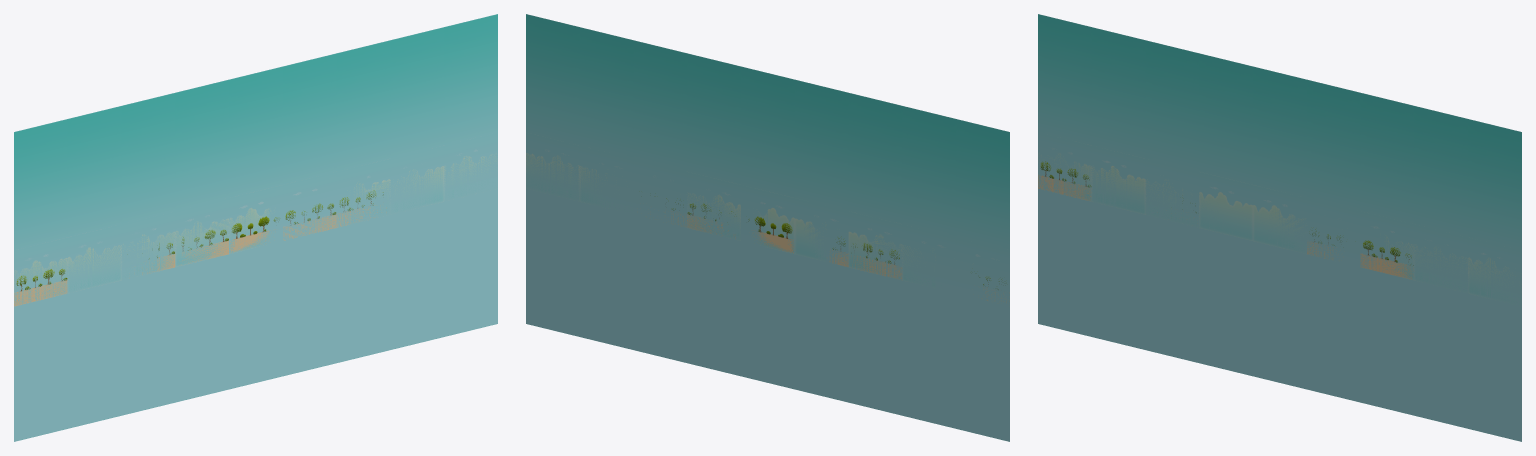
Rendered from background.glb.
3 views of the same model, side by side, from view 1: azimuth 30°, elevation 25°; view 2: azimuth 150°, elevation 25°; view 3: azimuth 330°, elevation 25° (orthographic).
Visible parts, largest first — view 1: 3, 1, 0; view 2: 3, 1, 0; view 3: 3, 1, 0.
Part boxes in pixels (x1,y1,x2,y2): 3: (14, 14, 497, 441); 1: (14, 153, 497, 305); 0: (14, 190, 386, 306); 3: (526, 14, 1009, 441); 1: (526, 153, 973, 288); 0: (650, 198, 1009, 302); 3: (1038, 14, 1521, 441); 1: (1038, 153, 1521, 306); 0: (1038, 161, 1413, 279).
Size of the model in its own units: 112 by 68.84 by 5.79e-07.
Materials: 4 (4 with a texture image).
